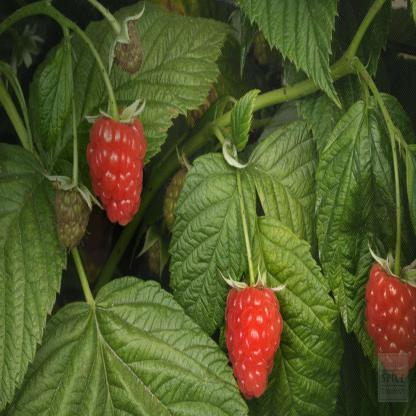Raspberry leaf: (26, 289, 254, 415), (315, 89, 416, 332), (104, 1, 236, 169), (0, 140, 78, 380), (250, 211, 336, 415), (170, 142, 250, 330)
